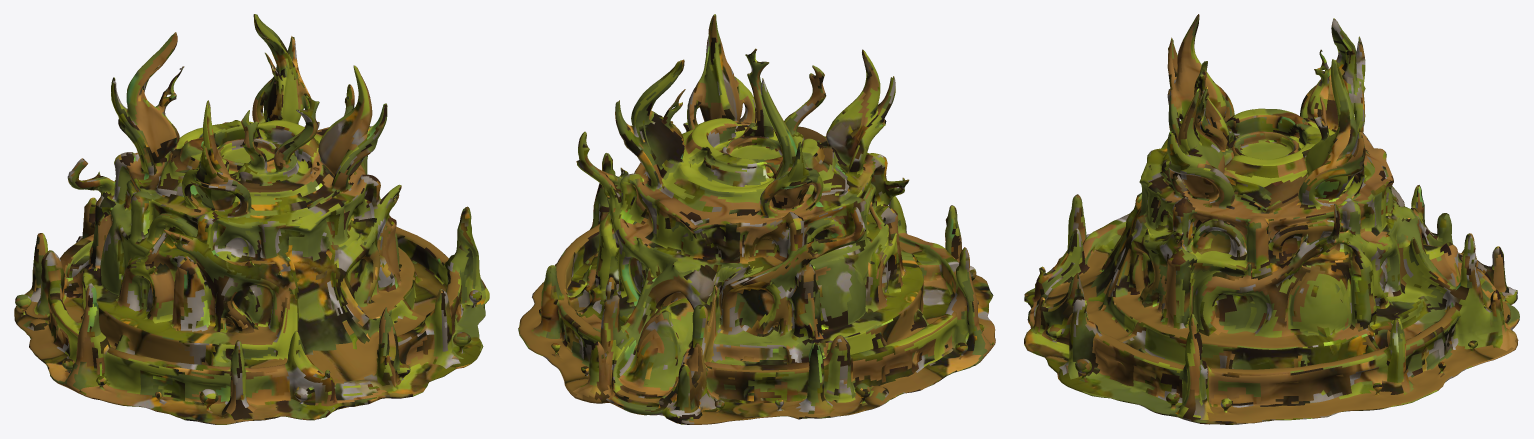
The model's file is nat-new-Base-49000.fbx.
3 views of the same model, side by side, from view 1: azimuth 30°, elevation 25°; view 2: azimuth 150°, elevation 25°; view 3: azimuth 270°, elevation 25° (orthographic). The views are drawn at different scales.
Visible parts, largest first — view 1: tripo_node_efd38082; view 2: tripo_node_efd38082; view 3: tripo_node_efd38082.
Boxes of the visible parts, <box> form: tripo_node_efd38082: <box>14,14,489,424</box>; tripo_node_efd38082: <box>518,14,995,424</box>; tripo_node_efd38082: <box>1024,14,1519,424</box>.
Bounding box in the file's own units: 0.9655 × 0.6143 × 0.9737.
